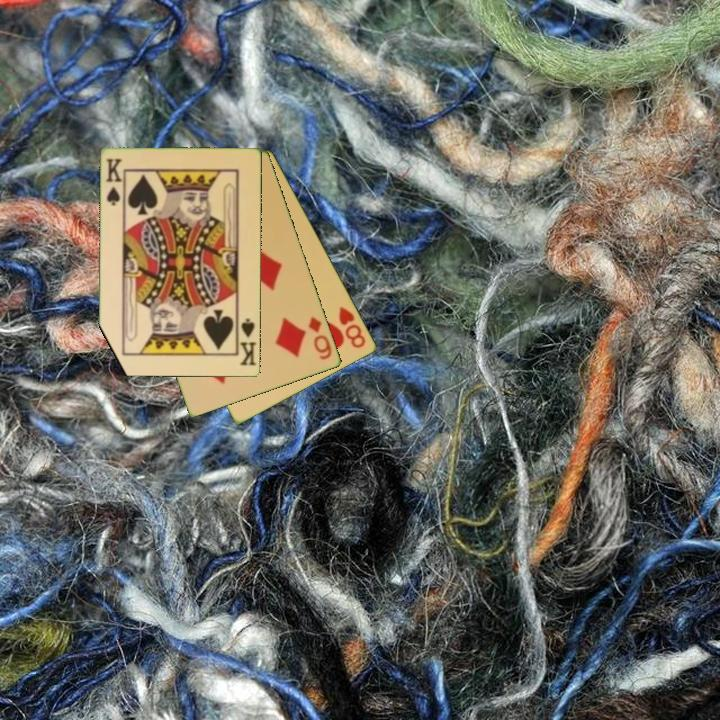6d: (305, 313, 335, 363)
8h: (335, 303, 369, 351)
Ks: (234, 314, 259, 369), (103, 155, 125, 209)
